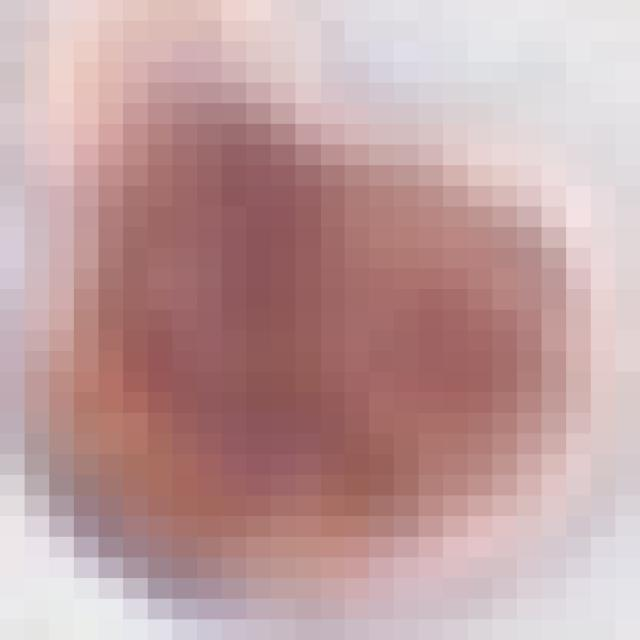nucleus: (17, 61, 623, 568)
